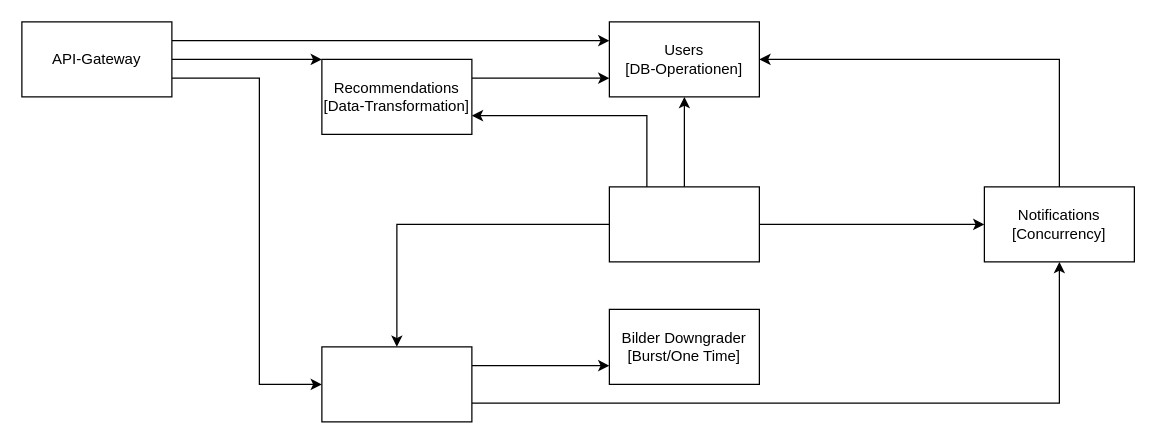
Image size: 1156x444. Some labels were removed from this diagram. Each missing label, with the centre of its shape:
"Posts [DB-Operationen & File I/O]" goes at point 396,384.
"Statistics [Scheduled]" goes at point 683,224.
